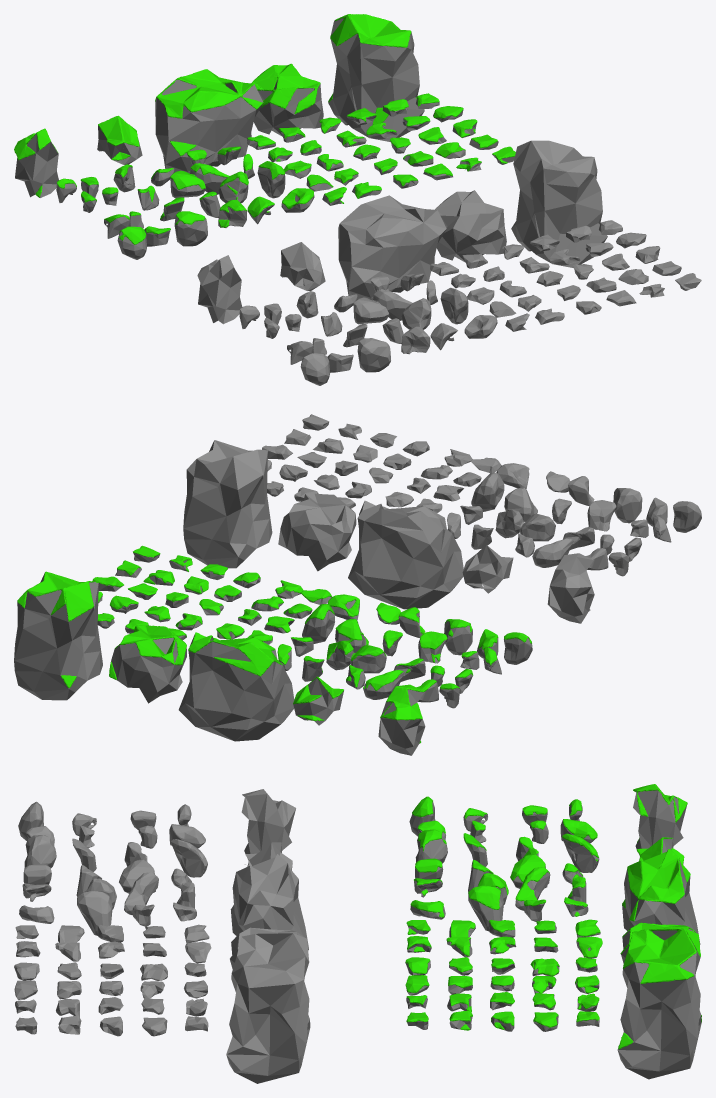
File: rocks_UV.fbx
The picture shows the model from 3 angles, top to bottom: view 1: azimuth 30°, elevation 25°; view 2: azimuth 150°, elevation 25°; view 3: azimuth 270°, elevation 25°; orthographic projection. The views are drawn at different scales.
Parts seen in each view (by area): view 1: SnowBall.156, SnowBall.094, SnowBall.154, SnowBall.093, SnowBall.078, SnowBall.155, SnowBall.031, SnowBall.151, SnowBall.030, SnowBall.153, SnowBall.024, SnowBall.110 (+12 smaller); view 2: SnowBall.093, SnowBall.154, SnowBall.094, SnowBall.156, SnowBall.078, SnowBall.155, SnowBall.031, SnowBall.151, SnowBall.030, SnowBall.153, SnowBall.024, SnowBall.110 (+16 smaller); view 3: SnowBall.094, SnowBall.156, SnowBall.093, SnowBall.154, SnowBall.031, SnowBall.151, SnowBall.024, SnowBall.110, SnowBall.039, SnowBall.115, SnowBall.020, SnowBall.109 (+14 smaller).
Boxes of the visible parts, x1=… form: SnowBall.156: x1=511, y1=140, x2=607, y2=268; SnowBall.094: x1=328, y1=14, x2=424, y2=142; SnowBall.154: x1=338, y1=195, x2=446, y2=300; SnowBall.093: x1=155, y1=69, x2=263, y2=173; SnowBall.078: x1=251, y1=63, x2=323, y2=136; SnowBall.155: x1=435, y1=190, x2=506, y2=262; SnowBall.031: x1=14, y1=128, x2=58, y2=197; SnowBall.151: x1=197, y1=255, x2=242, y2=324; SnowBall.030: x1=97, y1=115, x2=142, y2=164; SnowBall.153: x1=280, y1=242, x2=325, y2=290; SnowBall.024: x1=170, y1=163, x2=229, y2=198; SnowBall.110: x1=353, y1=290, x2=412, y2=324; SnowBall.093: x1=178, y1=632, x2=294, y2=741; SnowBall.154: x1=348, y1=500, x2=463, y2=609; SnowBall.094: x1=14, y1=571, x2=102, y2=700; SnowBall.156: x1=183, y1=440, x2=272, y2=568; SnowBall.078: x1=109, y1=625, x2=186, y2=703; SnowBall.155: x1=278, y1=493, x2=356, y2=571; SnowBall.031: x1=378, y1=684, x2=425, y2=755; SnowBall.151: x1=547, y1=553, x2=594, y2=623; SnowBall.030: x1=293, y1=676, x2=343, y2=725; SnowBall.153: x1=462, y1=545, x2=513, y2=593; SnowBall.024: x1=326, y1=640, x2=386, y2=673; SnowBall.110: x1=495, y1=509, x2=555, y2=541; SnowBall.094: x1=617, y1=928, x2=701, y2=1079; SnowBall.156: x1=226, y1=933, x2=310, y2=1083; SnowBall.093: x1=622, y1=849, x2=700, y2=944; SnowBall.154: x1=230, y1=854, x2=308, y2=949; SnowBall.031: x1=633, y1=784, x2=687, y2=848; SnowBall.151: x1=241, y1=789, x2=295, y2=853; SnowBall.024: x1=510, y1=854, x2=550, y2=910; SnowBall.110: x1=119, y1=859, x2=158, y2=915; SnowBall.039: x1=468, y1=885, x2=503, y2=931; SnowBall.115: x1=77, y1=891, x2=112, y2=935; SnowBall.020: x1=562, y1=833, x2=599, y2=872; SnowBall.109: x1=171, y1=839, x2=207, y2=877.
Bounding box in the file's own units: 4961 × 1396 × 6505.
